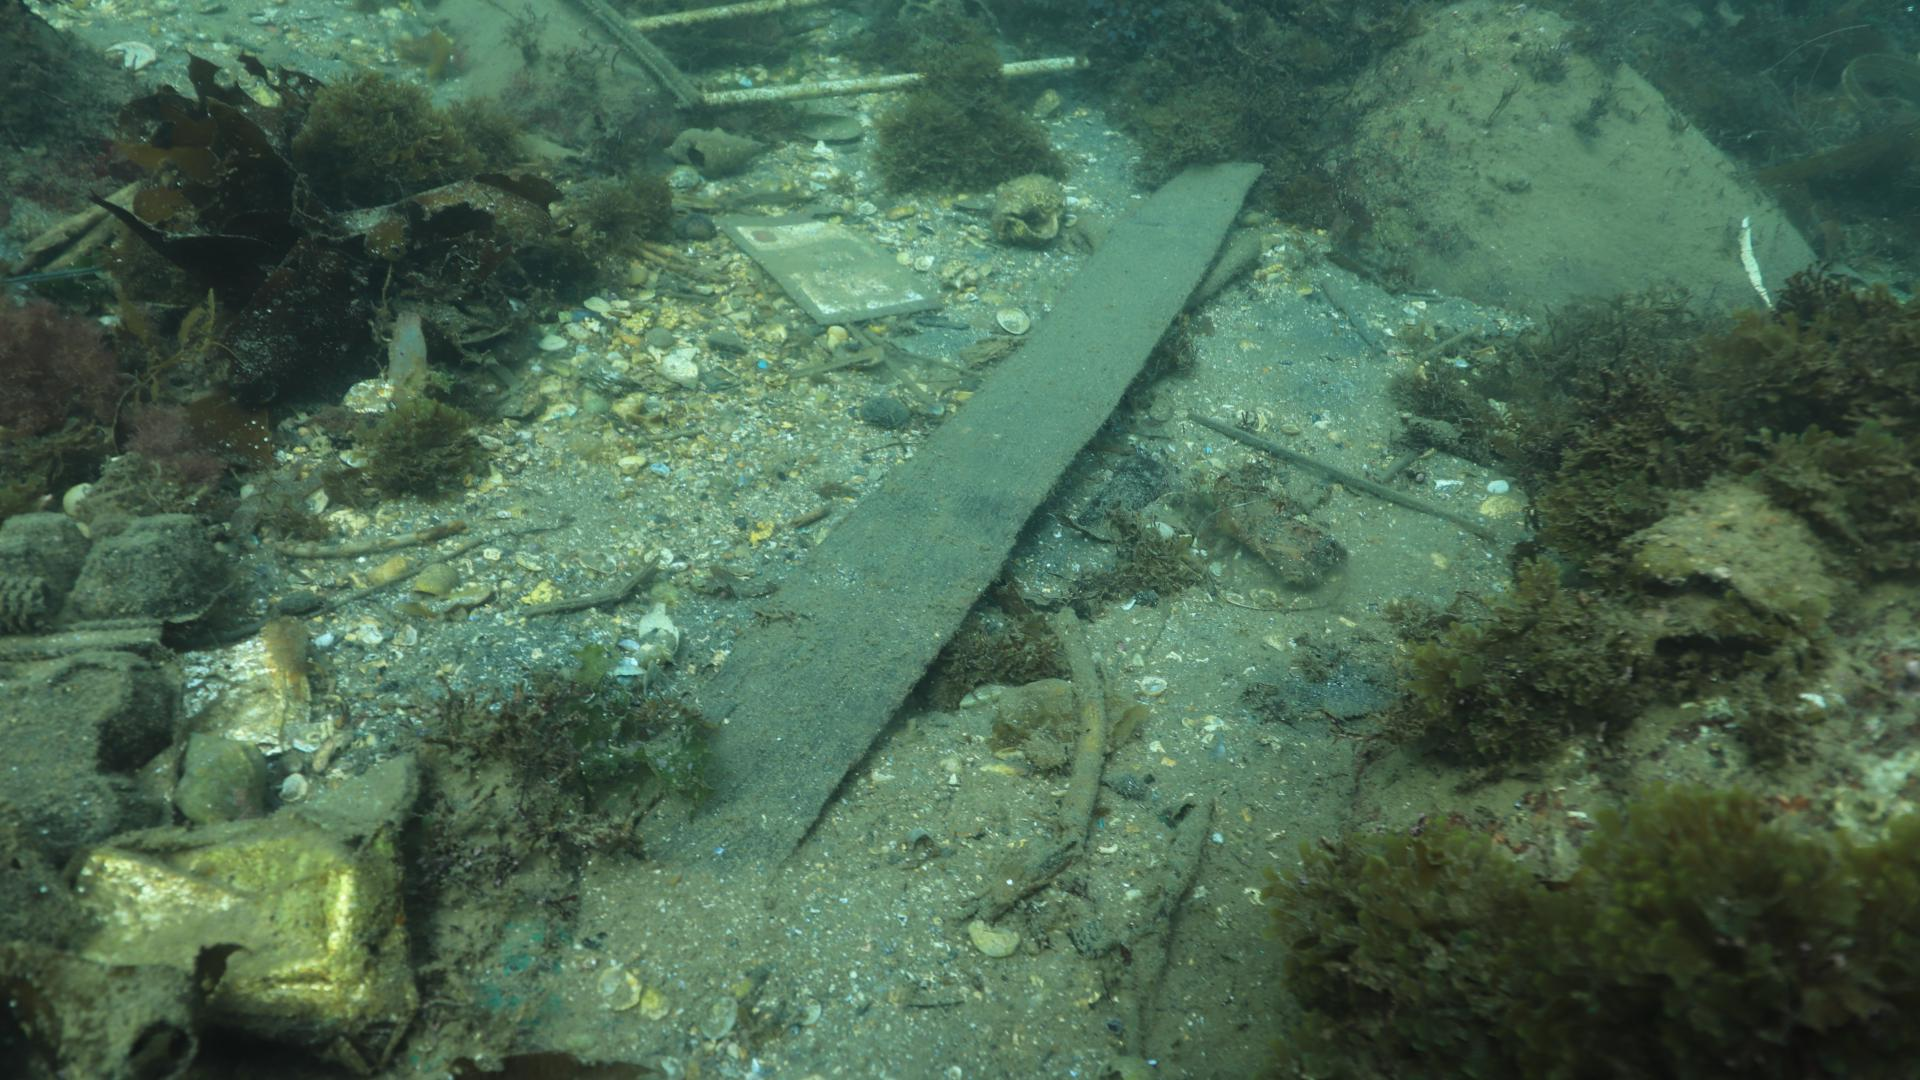wood: (615, 160, 1265, 870)
